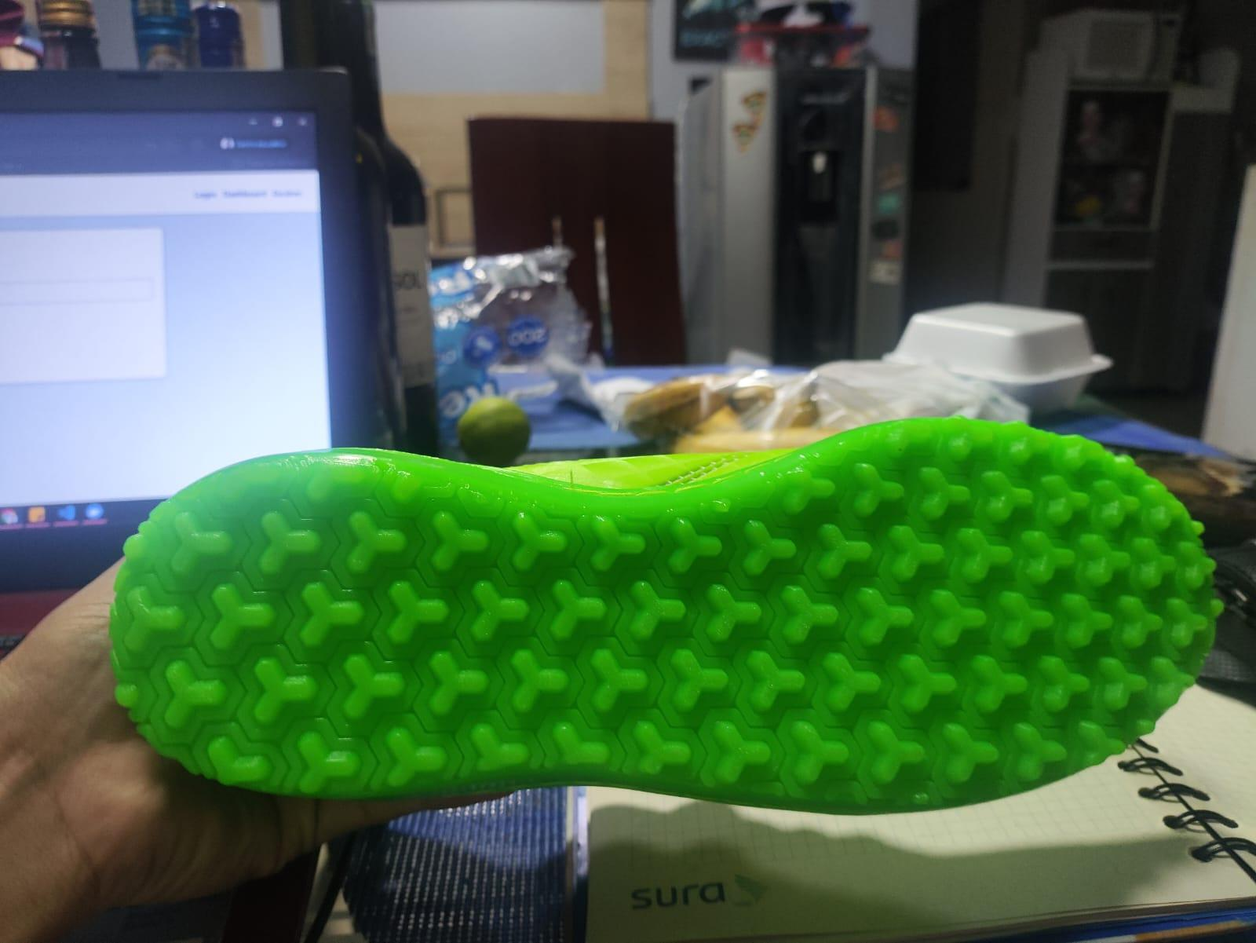shoe: (76, 418, 1221, 865)
